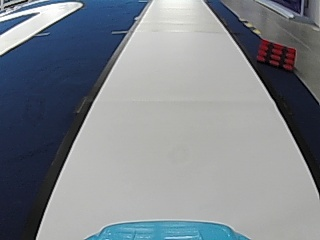bomb: (256, 39, 297, 71)
